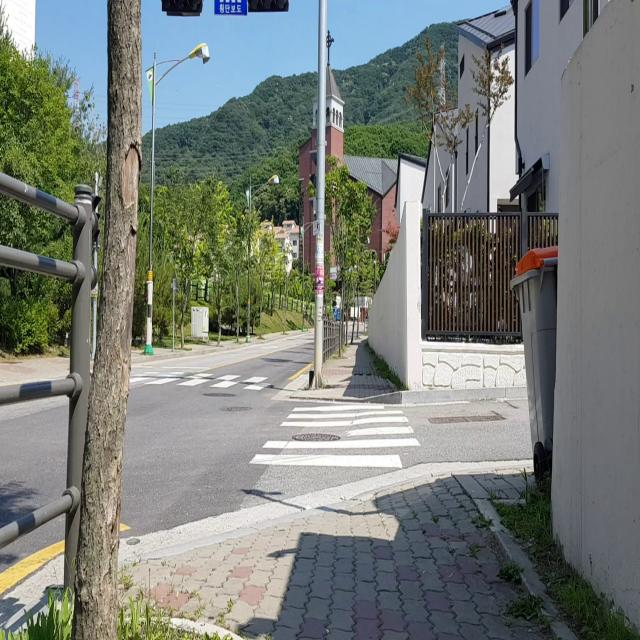횡단보도: (248, 403, 422, 470), (127, 370, 271, 396)
